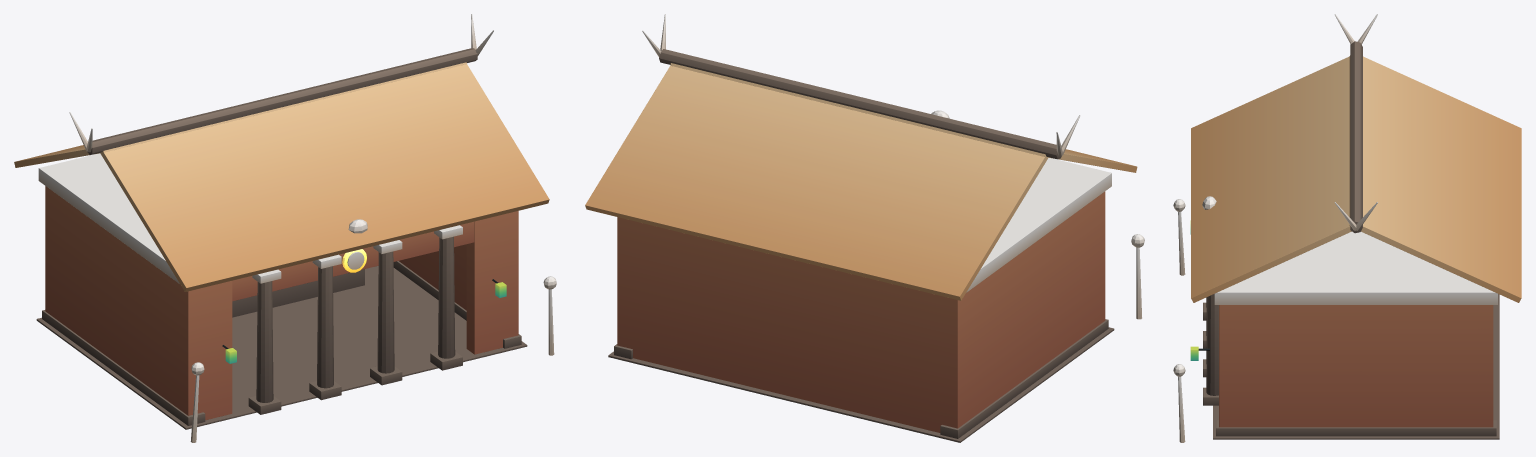
The model's file is bank_murkhold.glb.
The picture shows the model from 3 angles, left to right: view 1: azimuth 30°, elevation 25°; view 2: azimuth 150°, elevation 25°; view 3: azimuth 270°, elevation 25°; orthographic projection. The views are drawn at different scales.
Parts seen in each view (by area): view 1: bank_murkhold; view 2: bank_murkhold; view 3: bank_murkhold.
Boxes of the visible parts, x1,y1,x2,y2 form: bank_murkhold: [14, 14, 556, 442]; bank_murkhold: [585, 14, 1144, 442]; bank_murkhold: [1173, 14, 1521, 442].
Size of the model in its own units: 14.63 by 9.12 by 11.42.
4 materials, 4 textured.
